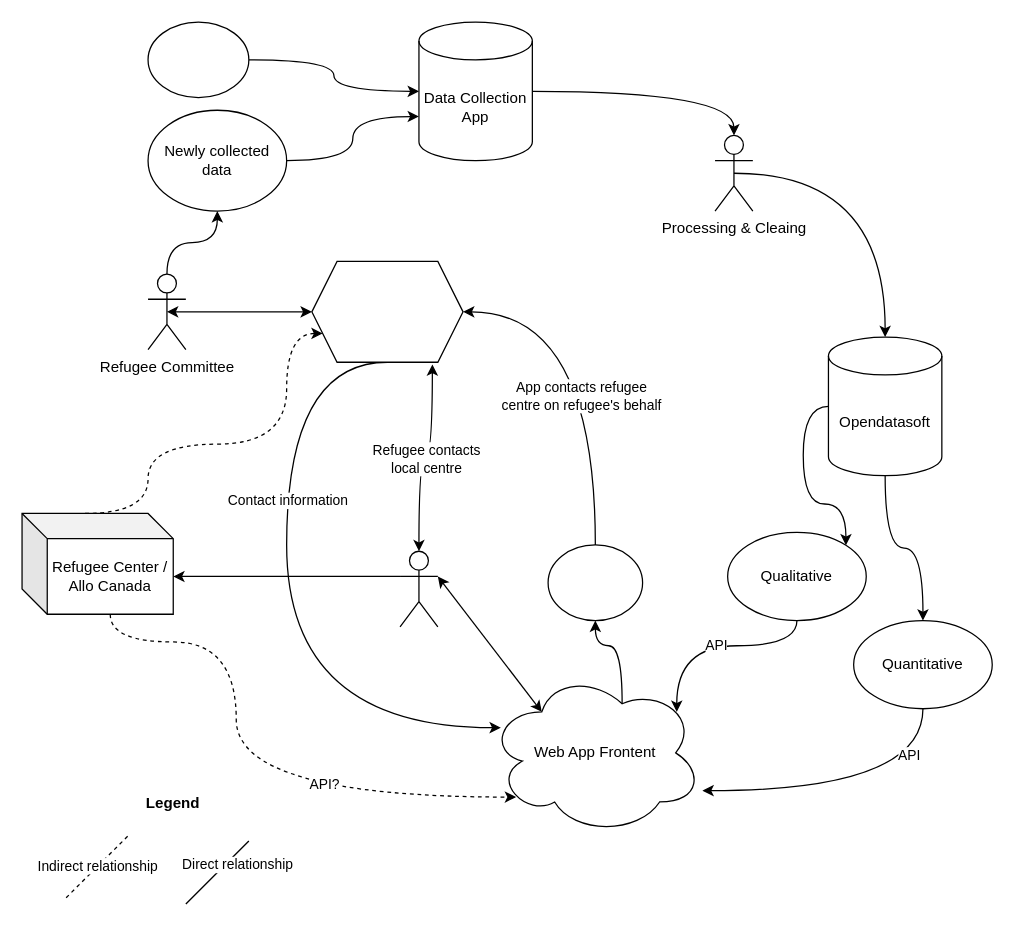
The diagram is 1014 pixels wide and 927 high, and some of its shapes have lost their labels. Here are the shapes that lost their labels. From the top down, the box of each, then its label:
(147, 21, 249, 98): Existing Data
(311, 260, 463, 362): Community Resources
(399, 550, 438, 627): Refugee
(547, 544, 643, 621): Messaging engine
